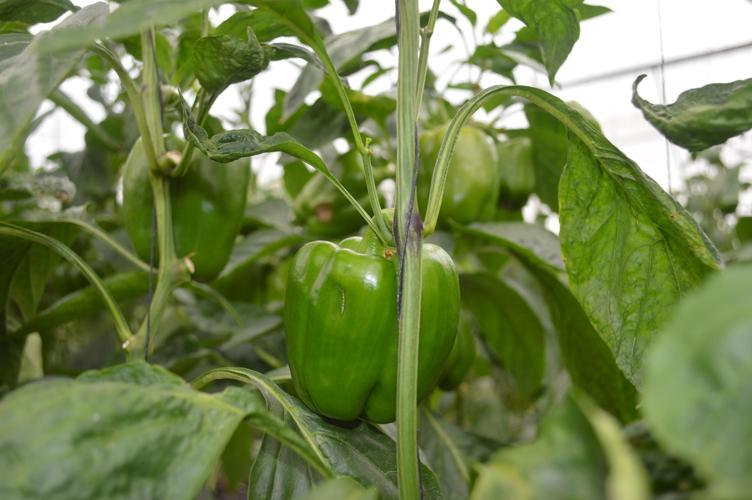BellPepper: (285, 241, 462, 416), (119, 137, 249, 280), (406, 128, 498, 222), (291, 155, 383, 232), (491, 144, 537, 204)
